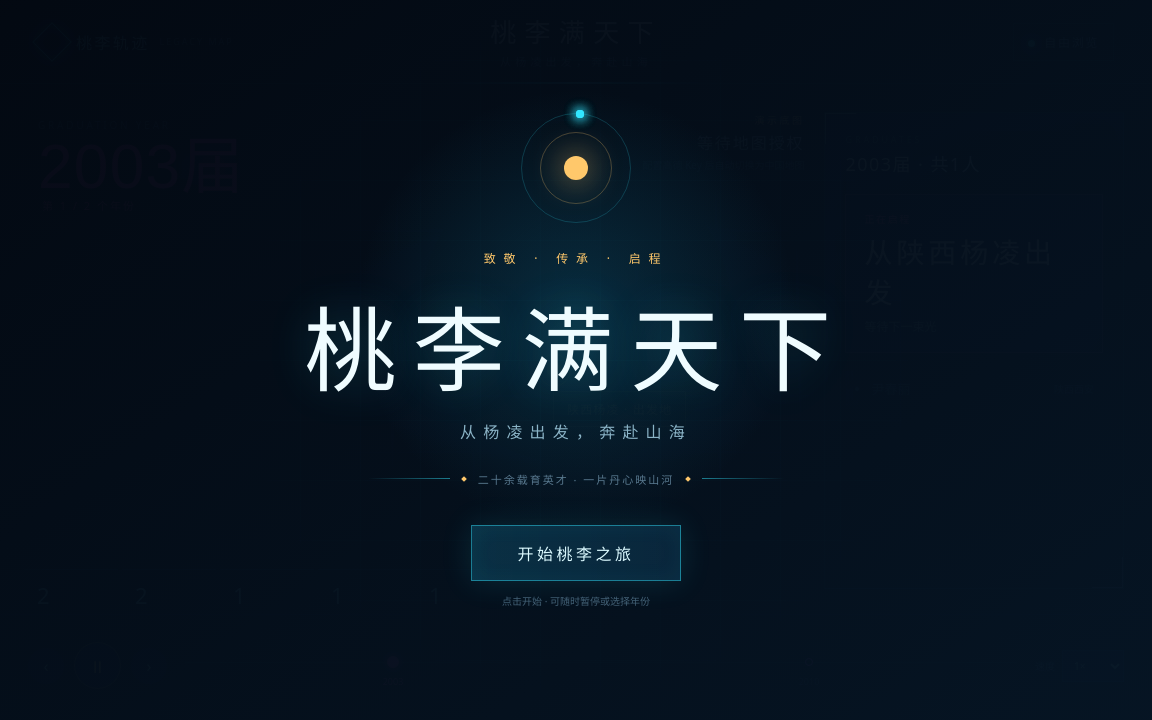
Test: TaoliExperience › supports year navigation and preserves the overseas card treatment
Click the button "开始桃李之旅".
click(576, 552)  # box left=471, top=524, right=681, bottom=580
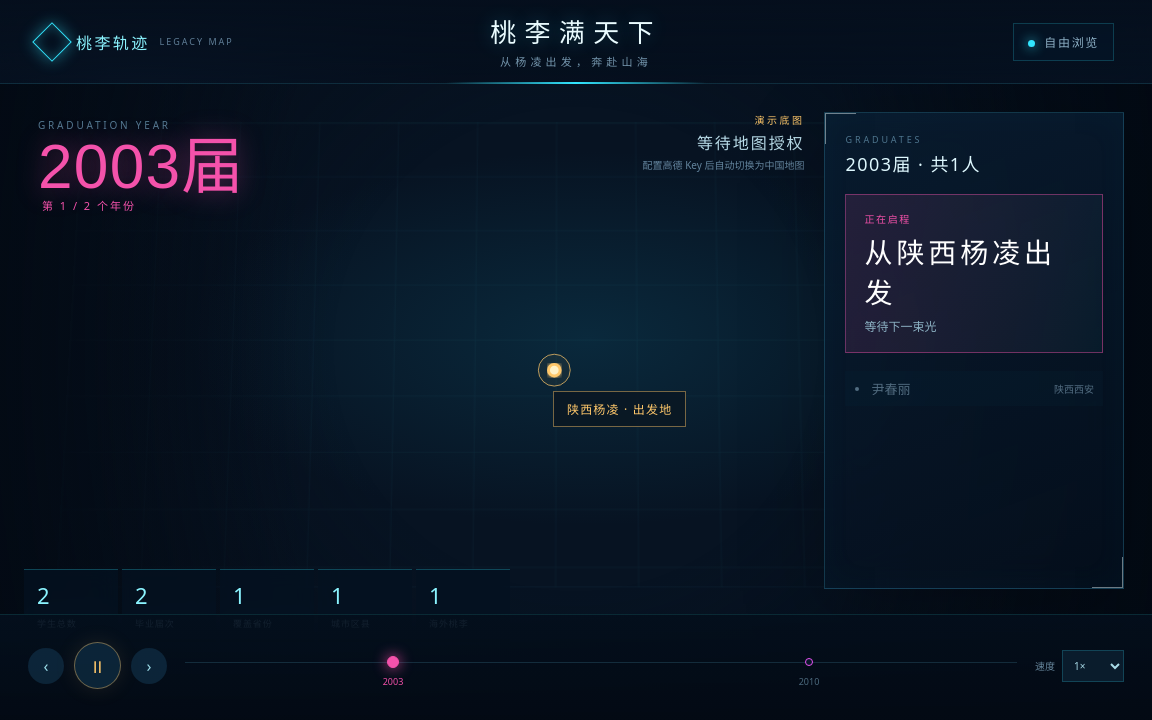
Click the button named "下一届".
click(149, 666)  # box left=131, top=648, right=167, bottom=684
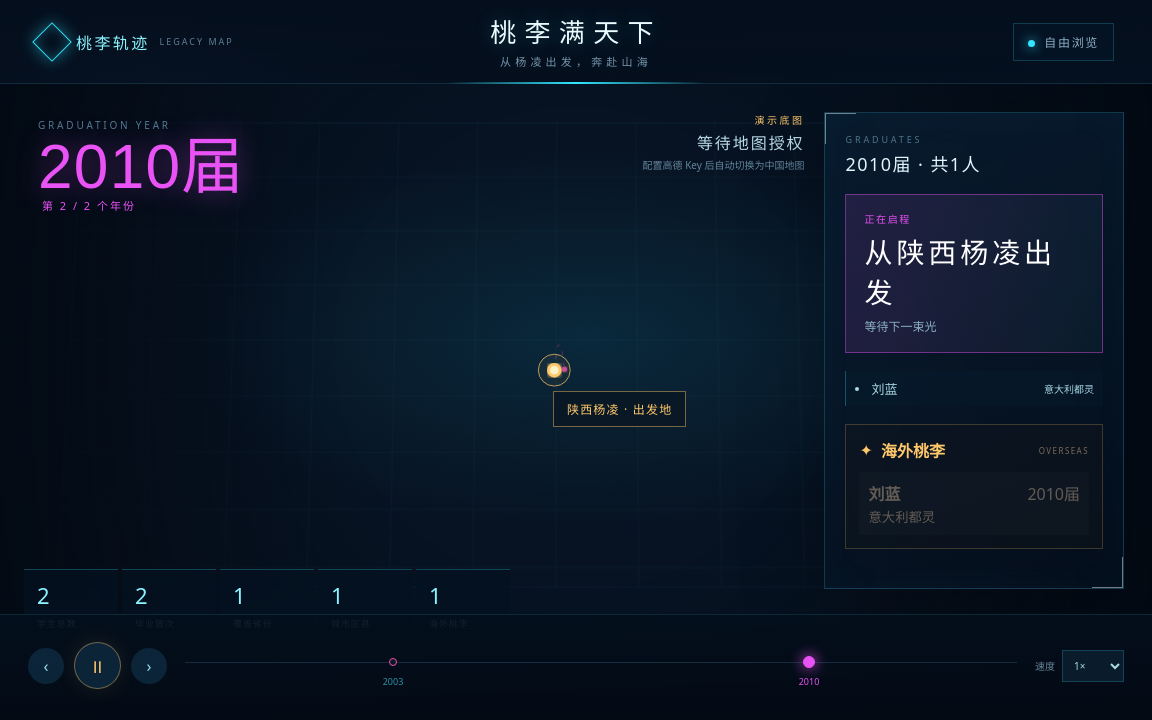
Now the text "2010届" below "GRADUATION YEAR" is shown, box left=38, top=132, right=245, bottom=201
Now the text "海外桃李" is shown, box left=881, top=440, right=945, bottom=462
Now the text "刘蓝" below "OVERSEAS" is shown, box left=868, top=483, right=900, bottom=505
